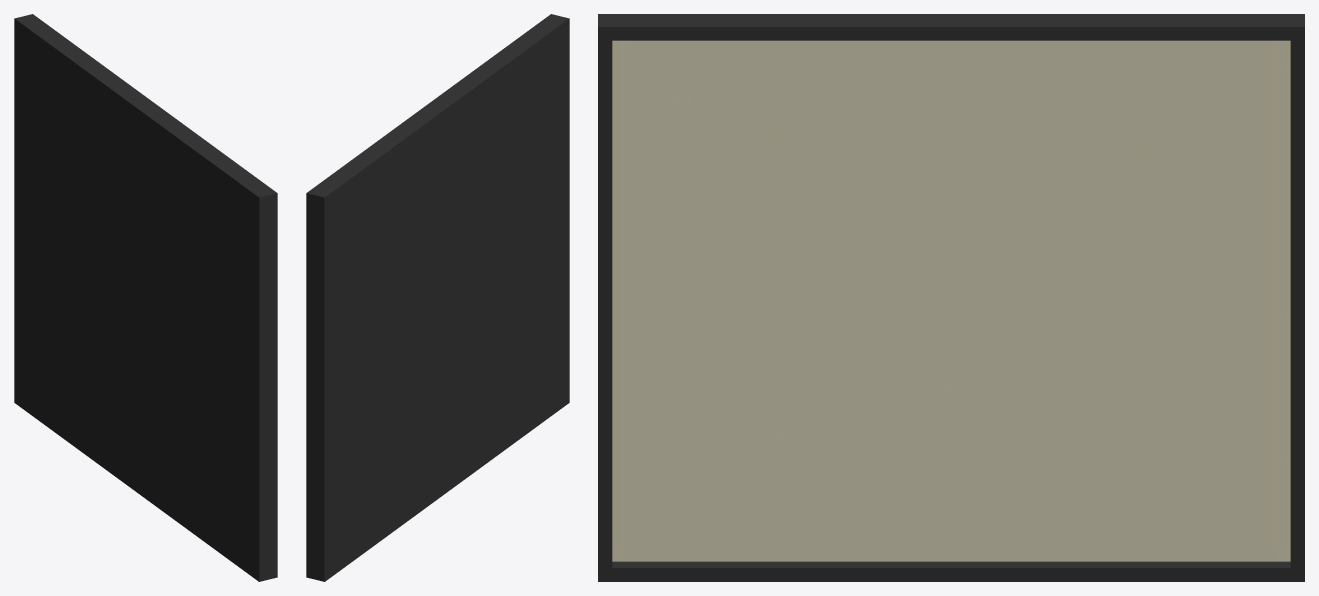
The model's file is frame6.glb.
3 renders of one model, left to right at view 1: azimuth 30°, elevation 25°; view 2: azimuth 150°, elevation 25°; view 3: azimuth 270°, elevation 25°, orthographic. The views are drawn at different scales.
Visible parts, largest first — view 1: Image; view 2: Image; view 3: Image.
Part boxes in pixels (x1=…): Image: x1=14, y1=14, x2=277, y2=581; Image: x1=306, y1=14, x2=569, y2=581; Image: x1=598, y1=14, x2=1304, y2=581.
Bounding box in the file's own units: 0.0477 × 0.9543 × 1.1.
1 material, 1 textured.
